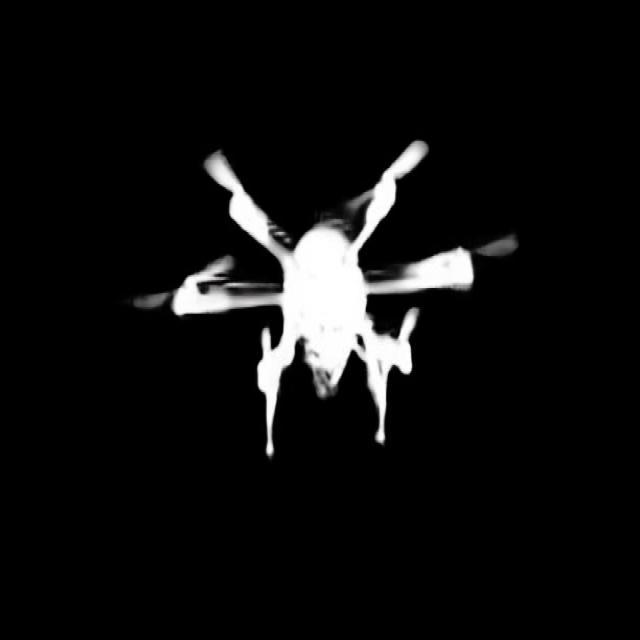drone: (110, 128, 524, 467)
